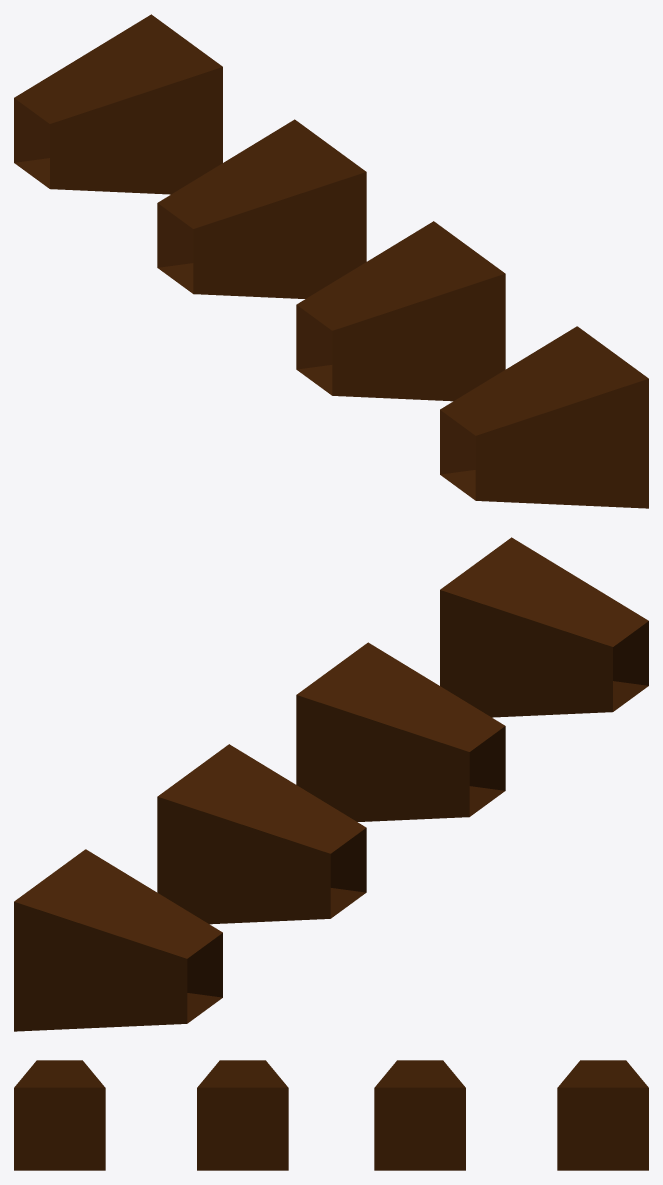
Rendered from model_loc_1414_q.obj.
The picture shows the model from 3 angles, top to bottom: view 1: azimuth 30°, elevation 25°; view 2: azimuth 150°, elevation 25°; view 3: azimuth 270°, elevation 25°; orthographic projection. The views are drawn at different scales.
Visible parts, largest first — view 1: 2074; view 2: 2074; view 3: 2074.
Boxes of the visible parts, bbox=[...] form: 2074: bbox=[14, 14, 648, 508]; 2074: bbox=[14, 537, 648, 1031]; 2074: bbox=[14, 1060, 648, 1170].
Bounding box in the file's own units: 20 × 16 × 111.
